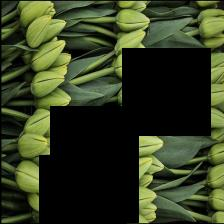green: (60, 1, 114, 224), (151, 12, 203, 224)
